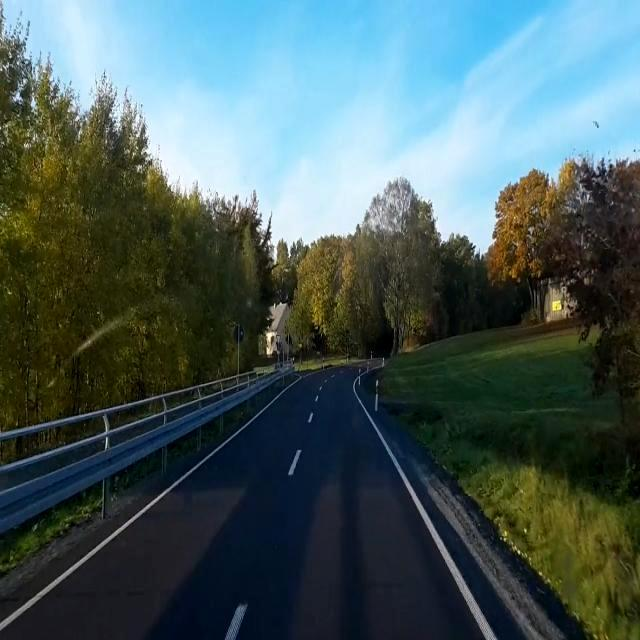lane: (0, 377, 301, 631), (352, 380, 498, 640), (224, 604, 247, 639)
road: (0, 368, 484, 639), (382, 428, 582, 639)
